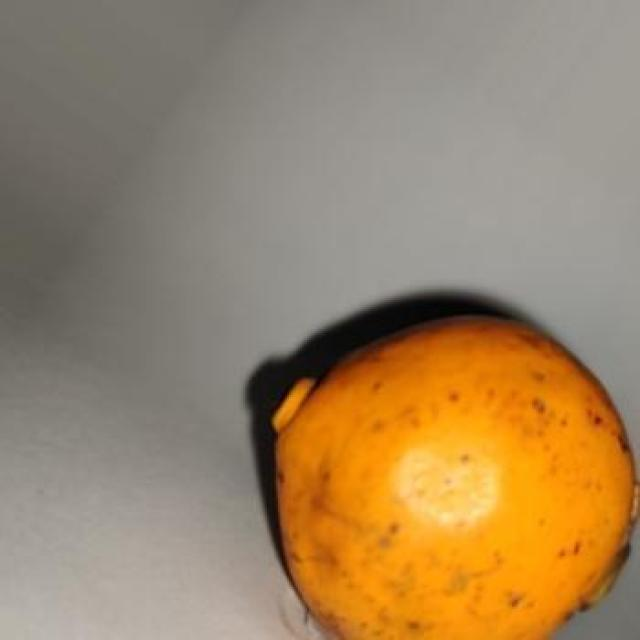good: (269, 311, 636, 638)
